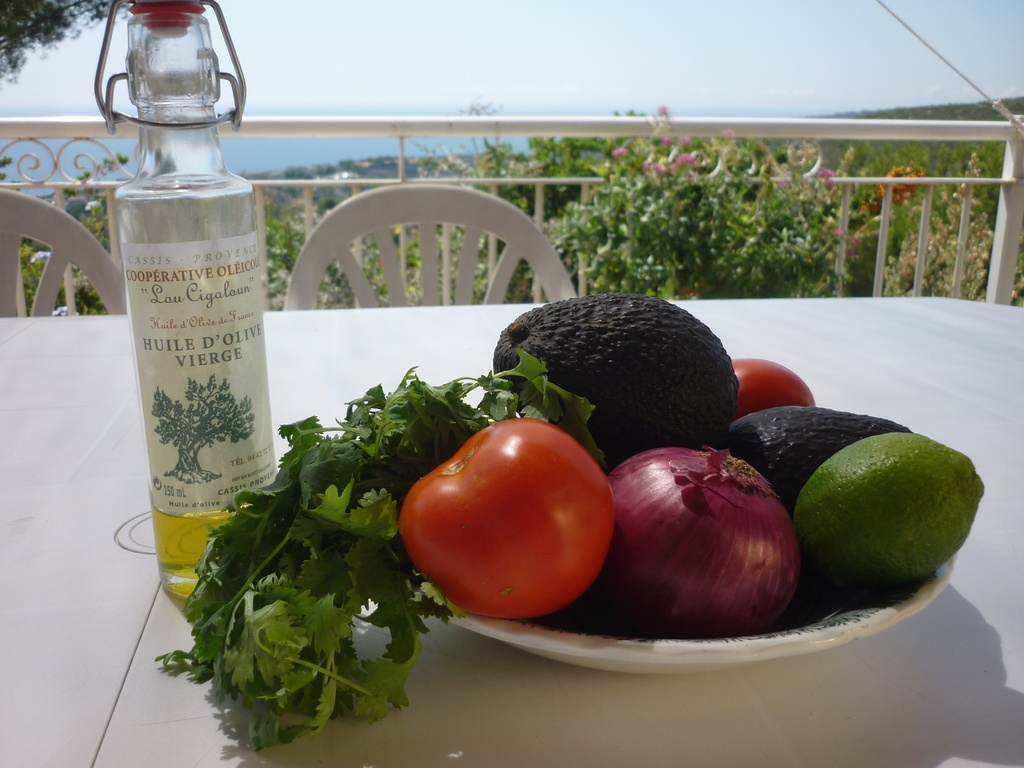Tomato: (403, 417, 624, 622), (730, 355, 819, 423)
